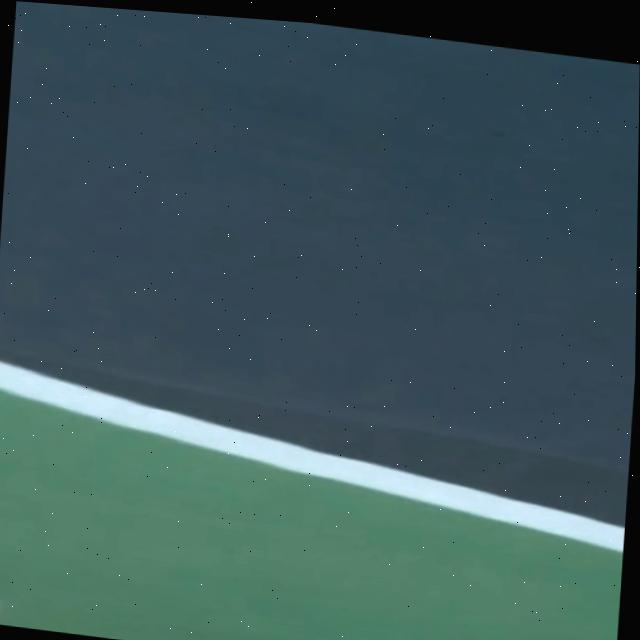right: (0, 360, 625, 551)
